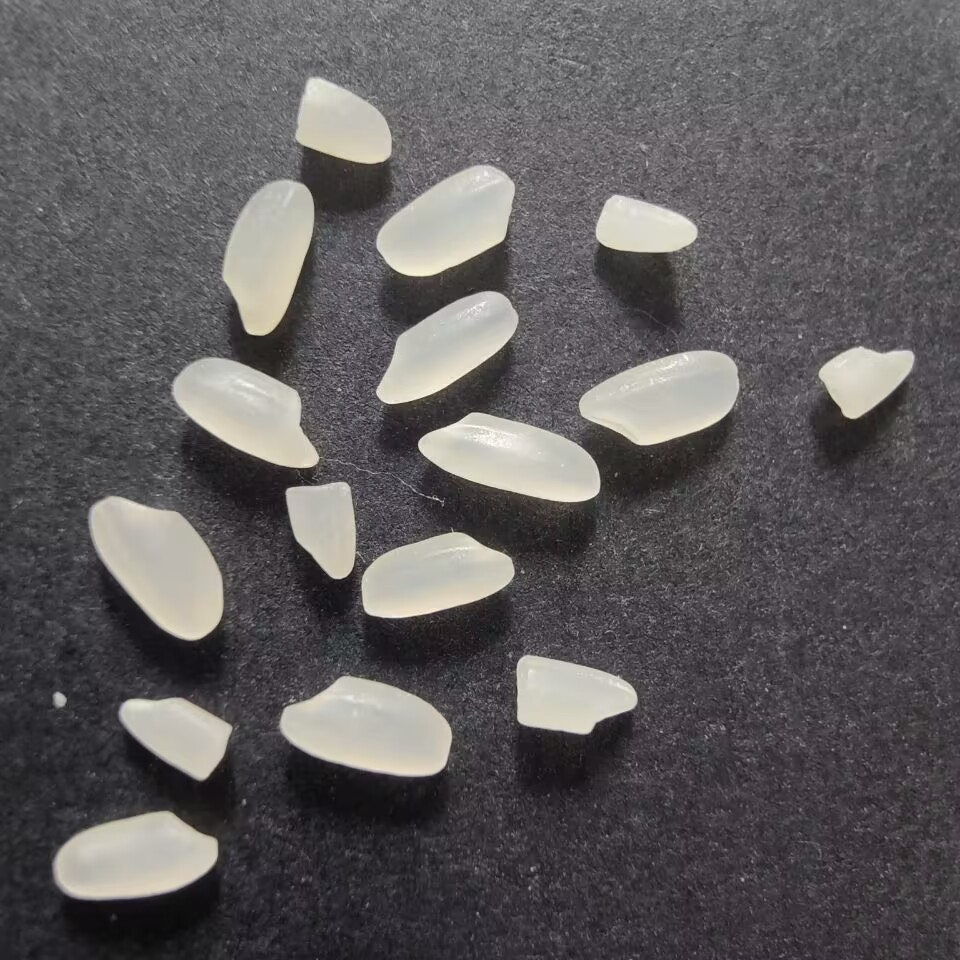broken: (107, 693, 240, 788), (509, 650, 642, 743), (289, 70, 397, 170), (813, 341, 922, 425), (280, 477, 361, 587), (588, 188, 701, 260)
rice: (80, 490, 231, 642), (364, 282, 526, 412), (414, 408, 608, 516), (267, 673, 457, 783), (47, 804, 229, 913), (368, 157, 521, 281), (572, 345, 746, 452), (165, 355, 323, 472), (217, 175, 316, 344), (354, 527, 522, 620)
